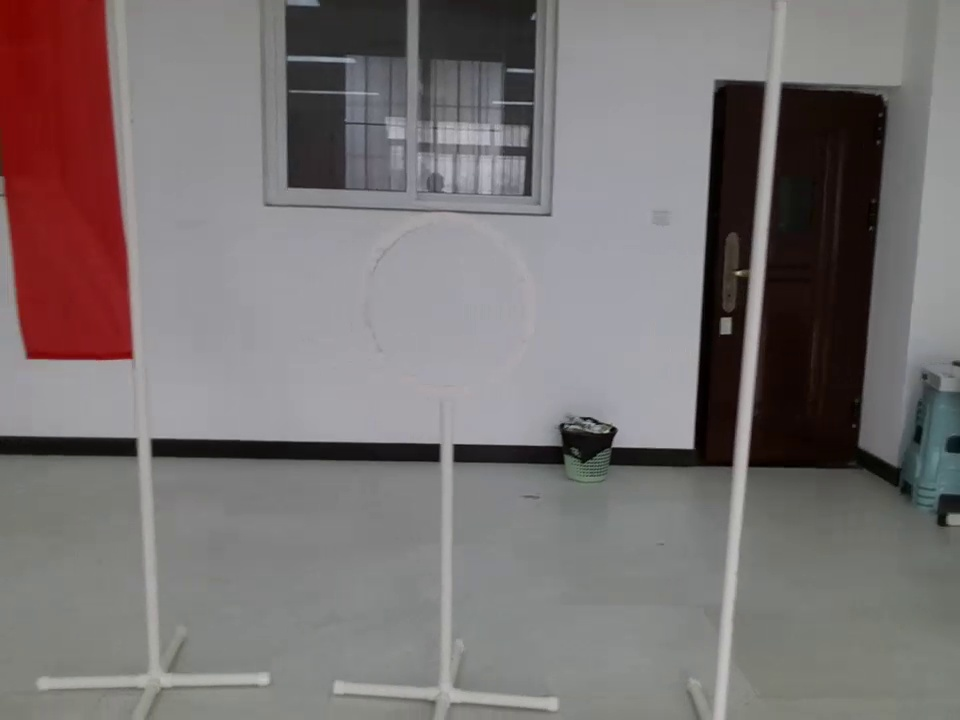gan: (720, 3, 792, 684)
qi: (1, 1, 148, 384)
quan: (358, 193, 555, 409)
